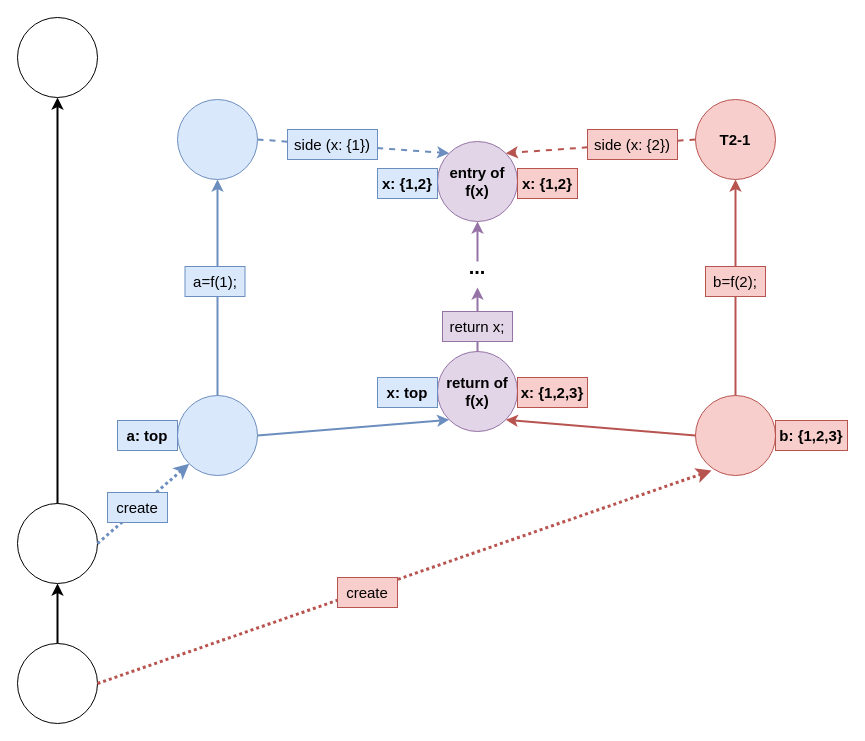
Image size: 865x741. Some labels were removed from this diagram. The centre of each missing label's shape, as x and y in pixels:
"entry of main" goes at [57,57].
"T1-1" goes at [217,139].
"T1-2" goes at [217,435].
"T2-2" goes at [735,435].
